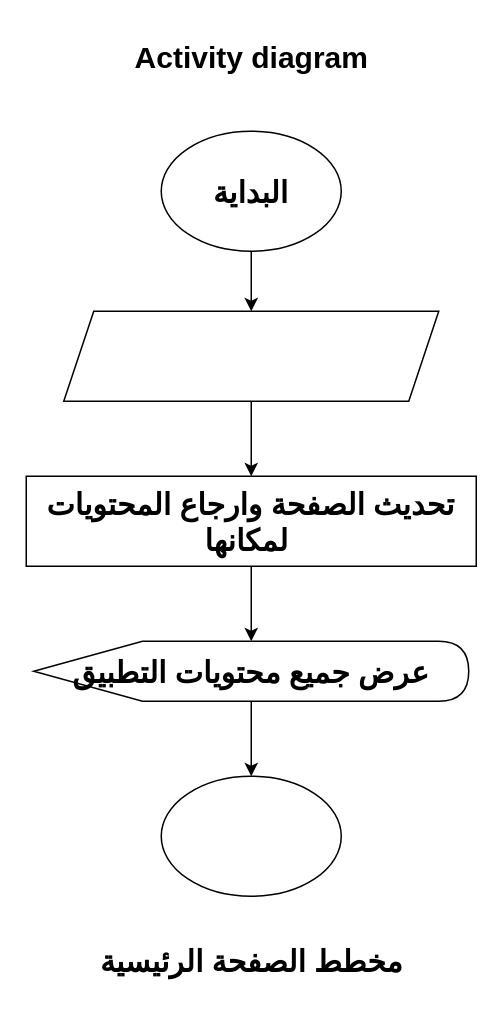
Some shapes in this 503 by 1016 pixel diagram are drawn without their labels. Each missing label, with the centre of its shape:
"اختيار امر الصفحة الرئيسية" goes at point 250,355.
"النهاية" goes at point 250,835.
